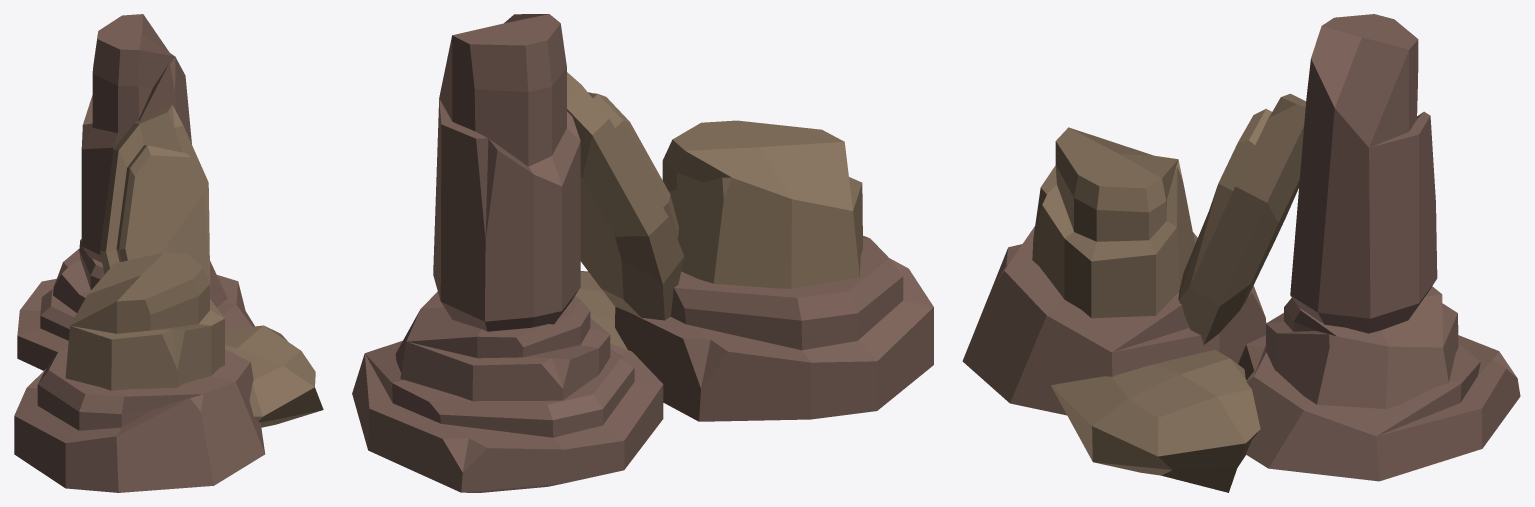
File: stoneset2.fbx
The picture shows the model from 3 angles, left to right: view 1: azimuth 30°, elevation 25°; view 2: azimuth 150°, elevation 25°; view 3: azimuth 270°, elevation 25°; orthographic projection. The views are drawn at different scales.
Parts seen in each view (by area): view 1: stone03.037; view 2: stone03.037; view 3: stone03.037.
Boxes of the visible parts, x1,y1,x2,y2 form: stone03.037: (14,14,323,492); stone03.037: (352,14,933,492); stone03.037: (962,14,1520,492).
Size of the model in its own units: 3132 by 3224 by 3876.
